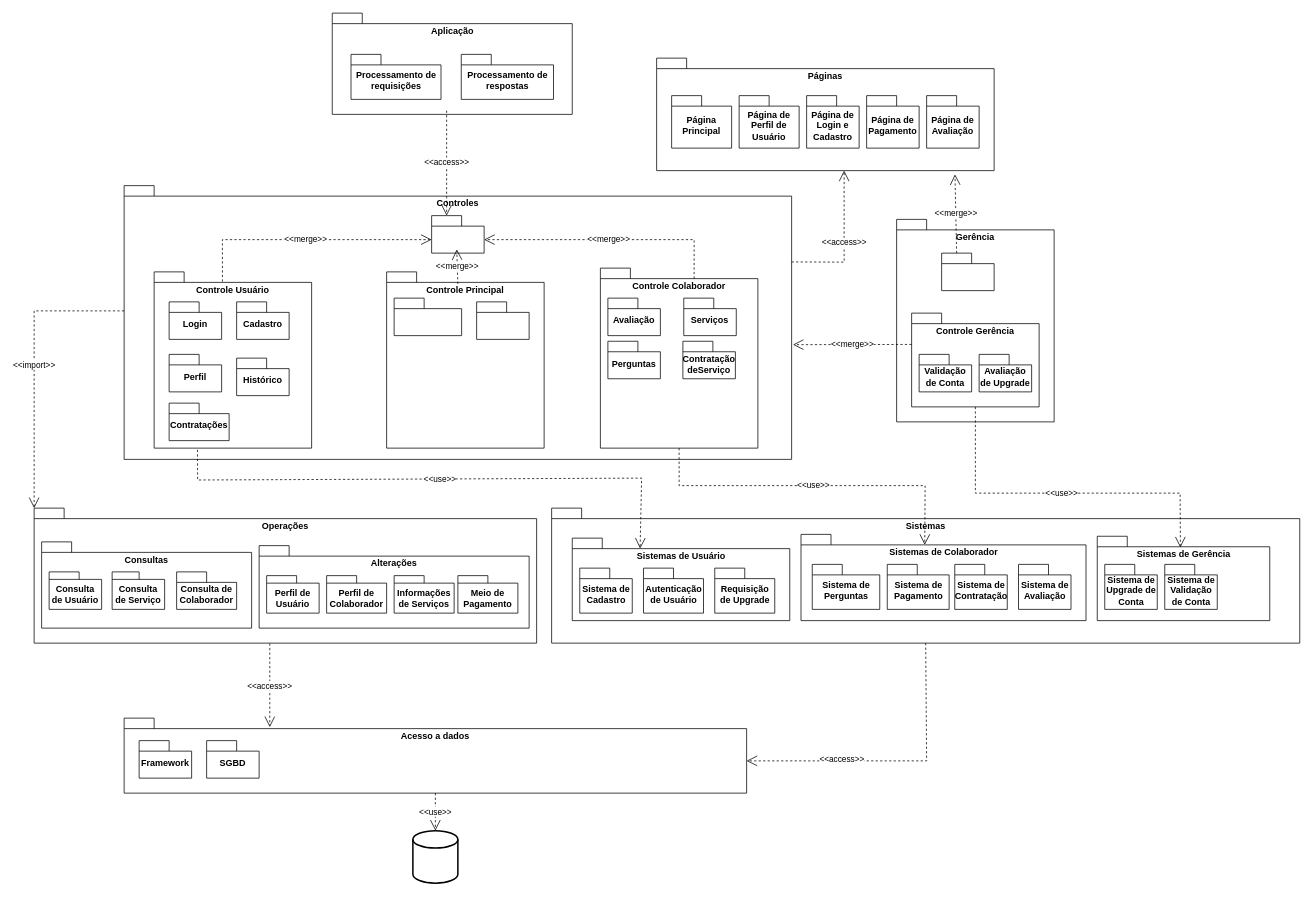
This 1313x897 diagram has some shape labels left out. The centre of each missing label's shape, as x and y in pixels:
"BD" goes at [435,857].
"Colaboradores" goes at [427,316].
"Pesquisa por serviço" goes at [502,320].
"Página de Gerência" goes at [967,271].
"Rotas" goes at [457,234].
